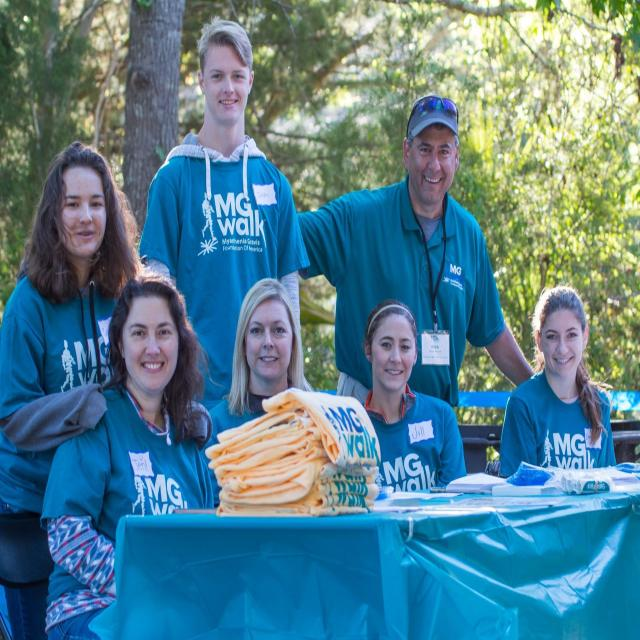body: (0, 135, 216, 640), (283, 90, 539, 410), (137, 12, 313, 412), (37, 267, 217, 640), (358, 297, 469, 639), (196, 276, 316, 511), (497, 285, 617, 480)
